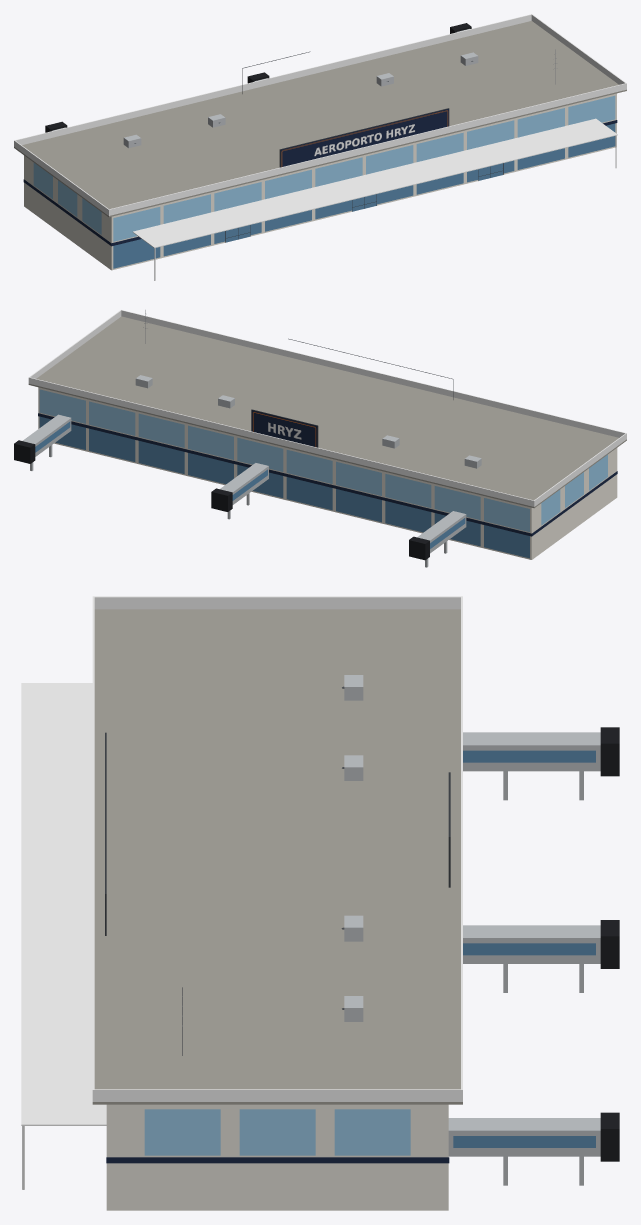
The model's file is terminal-aeroporto.glb.
3 renders of one model, top to bottom at view 1: azimuth 30°, elevation 25°; view 2: azimuth 150°, elevation 25°; view 3: azimuth 270°, elevation 25°, orthographic. The views are drawn at different scales.
Visible parts, largest first — view 1: Telhado, Detalhes, VidroLuz, Vidro, Paredes, Letreiro; view 2: Telhado, Vidro, VidroLuz, Paredes, Detalhes, Letreiro; view 3: Telhado, Detalhes, Paredes, Vidro, VidroLuz.
Boxes of the visible parts, box(x1,y1,x2,y2) form: Telhado: box(14, 14, 626, 217); Detalhes: box(23, 23, 617, 280); VidroLuz: box(58, 108, 564, 268); Vidro: box(33, 95, 615, 234); Paredes: box(24, 93, 616, 270); Letreiro: box(280, 109, 448, 167); Telhado: box(28, 310, 626, 508); Vidro: box(35, 389, 607, 548); VidroLuz: box(39, 413, 583, 558); Paredes: box(38, 387, 617, 559); Detalhes: box(14, 310, 617, 567); Letreiro: box(251, 410, 317, 447); Telhado: box(92, 596, 462, 1104); Detalhes: box(21, 675, 619, 1189); Paredes: box(106, 1104, 448, 1210); Vidro: box(144, 750, 595, 1155); VidroLuz: box(239, 1109, 410, 1155).
Bounding box in the file's own units: 123 × 21.3 × 63.
16 materials, 2 textured.
